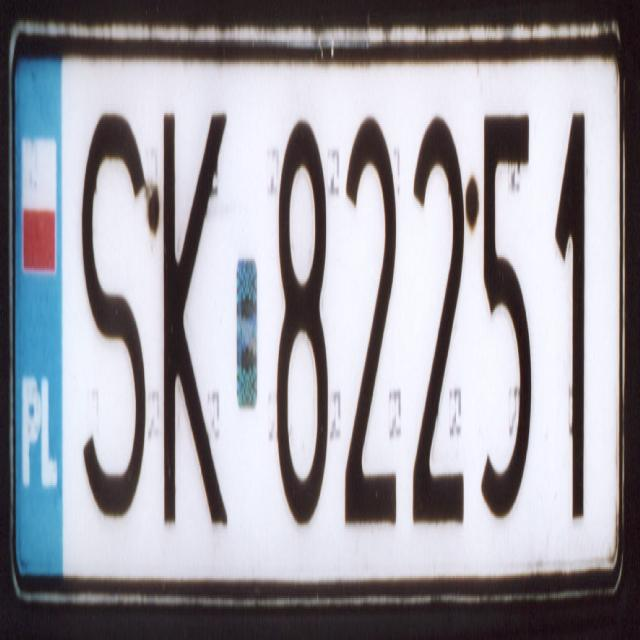pl_license_plate: (11, 35, 622, 578)
